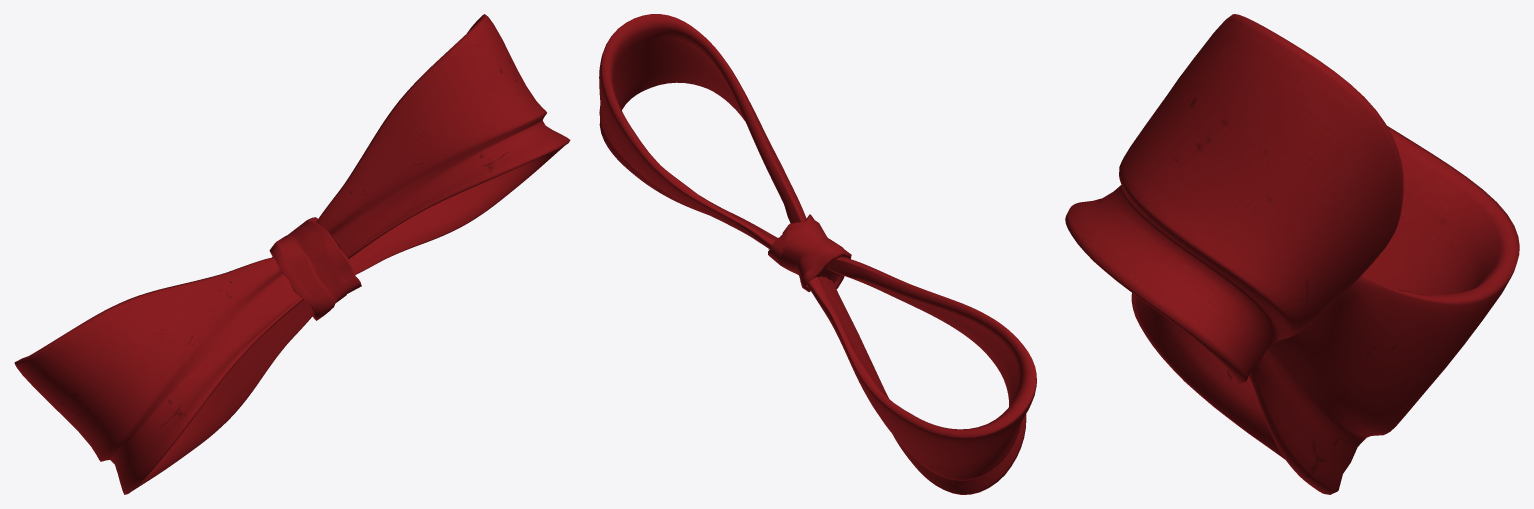
File: hairBowRed.glb
3 renders of one model, left to right at view 1: azimuth 30°, elevation 25°; view 2: azimuth 150°, elevation 25°; view 3: azimuth 270°, elevation 25°, orthographic. The views are drawn at different scales.
Parts seen in each view (by area): view 1: hariBow_toSend; view 2: hariBow_toSend; view 3: hariBow_toSend.
Part boxes in pixels (bbox=[...]): hariBow_toSend: bbox=[14, 14, 570, 494]; hariBow_toSend: bbox=[599, 14, 1036, 494]; hariBow_toSend: bbox=[1065, 14, 1519, 494].
Bounding box in the file's own units: 0.2466 × 0.1914 × 0.1023.
1 material, 1 textured.
